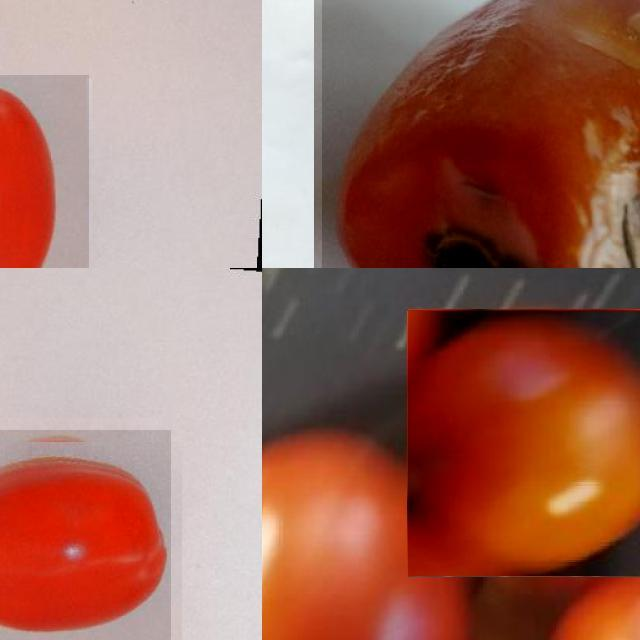Fresh Tomato: (407, 309, 640, 576), (262, 432, 477, 640), (0, 429, 171, 640), (0, 75, 89, 268)
Rotten Tomato: (322, 0, 640, 268)
